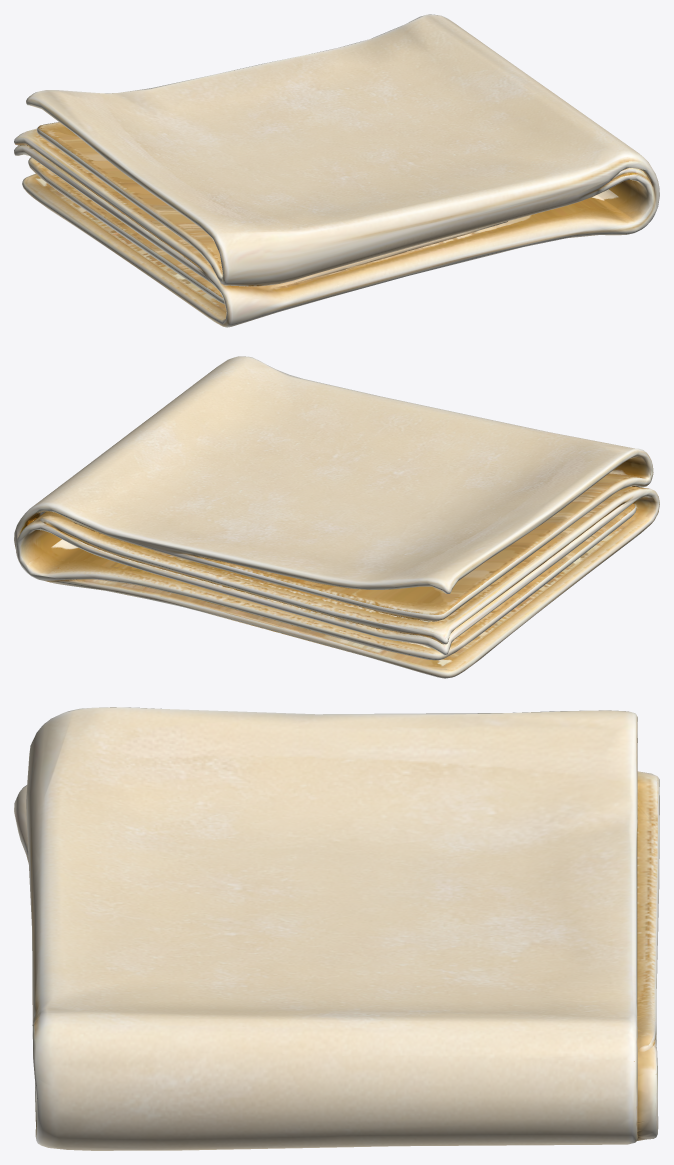
File: cold-sheet.glb
3 views of the same model, one above another, from view 1: azimuth 30°, elevation 25°; view 2: azimuth 150°, elevation 25°; view 3: azimuth 270°, elevation 25° (orthographic). The views are drawn at different scales.
Visible parts, largest first — view 1: mesh; view 2: mesh; view 3: mesh.
Boxes of the visible parts, box(x1,y1,x2,y2) form: mesh: box(14, 14, 659, 327); mesh: box(14, 356, 659, 678); mesh: box(14, 707, 659, 1150).
Size of the model in its own units: 2 by 0.4194 by 1.69.
Materials: 1 (1 with a texture image).
